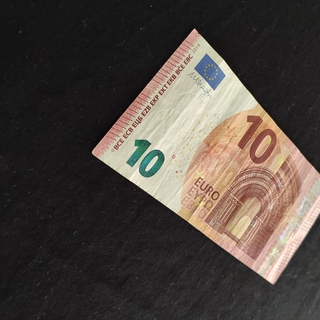10EUROFront: (91, 28, 320, 285)
